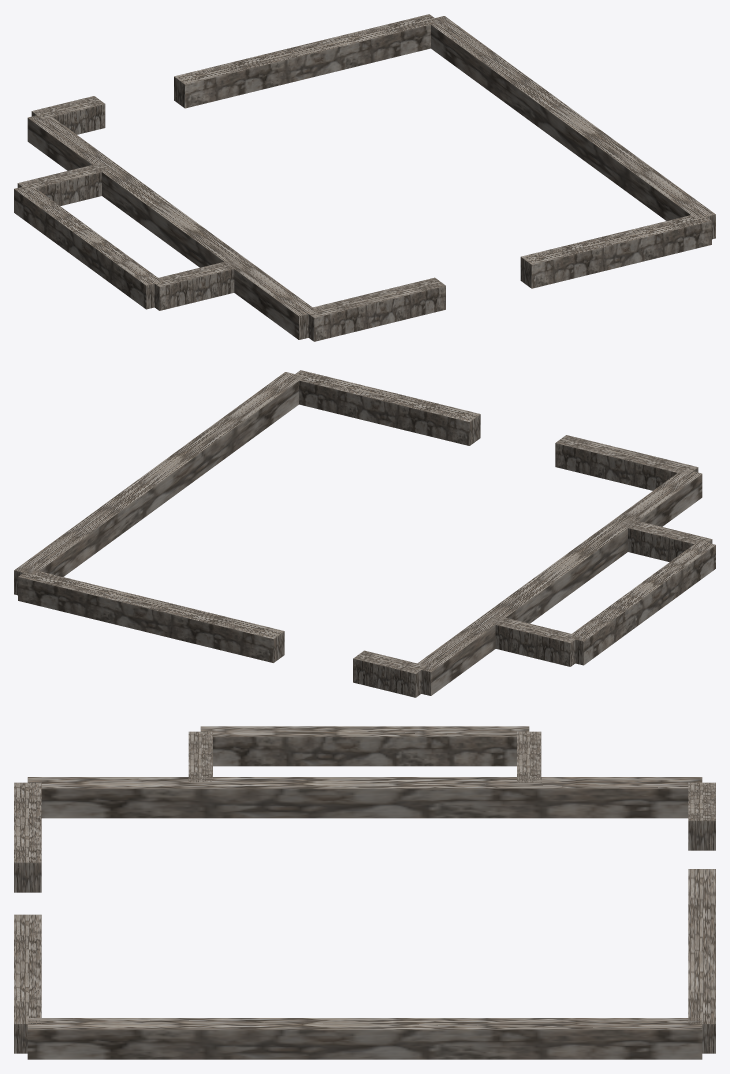
The model's file is BW_MillerCottage01_Foundation.fbx.
3 views of the same model, one above another, from view 1: azimuth 30°, elevation 25°; view 2: azimuth 150°, elevation 25°; view 3: azimuth 270°, elevation 25° (orthographic). The views are drawn at different scales.
Parts seen in each view (by area): view 1: BW_MillerCottage01_Foundation; view 2: BW_MillerCottage01_Foundation; view 3: BW_MillerCottage01_Foundation.
Boxes of the visible parts, x1=… form: BW_MillerCottage01_Foundation: x1=14, y1=14, x2=715, y2=341; BW_MillerCottage01_Foundation: x1=14, y1=370, x2=715, y2=697; BW_MillerCottage01_Foundation: x1=14, y1=726, x2=715, y2=1059.
Bounding box in the file's own units: 8.3 × 0.38 × 8.12.
